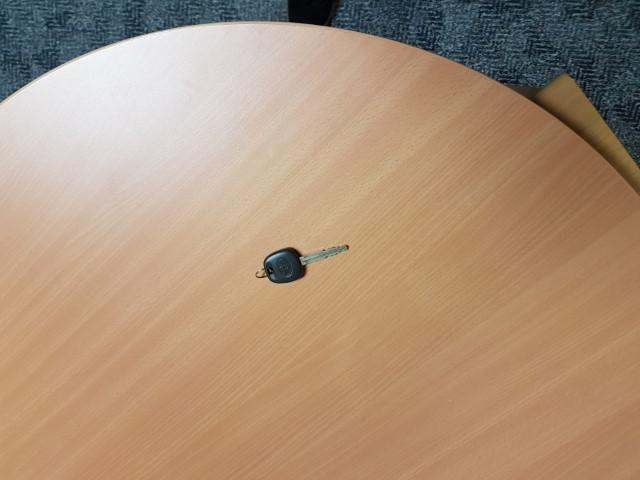key: (264, 243, 350, 283)
